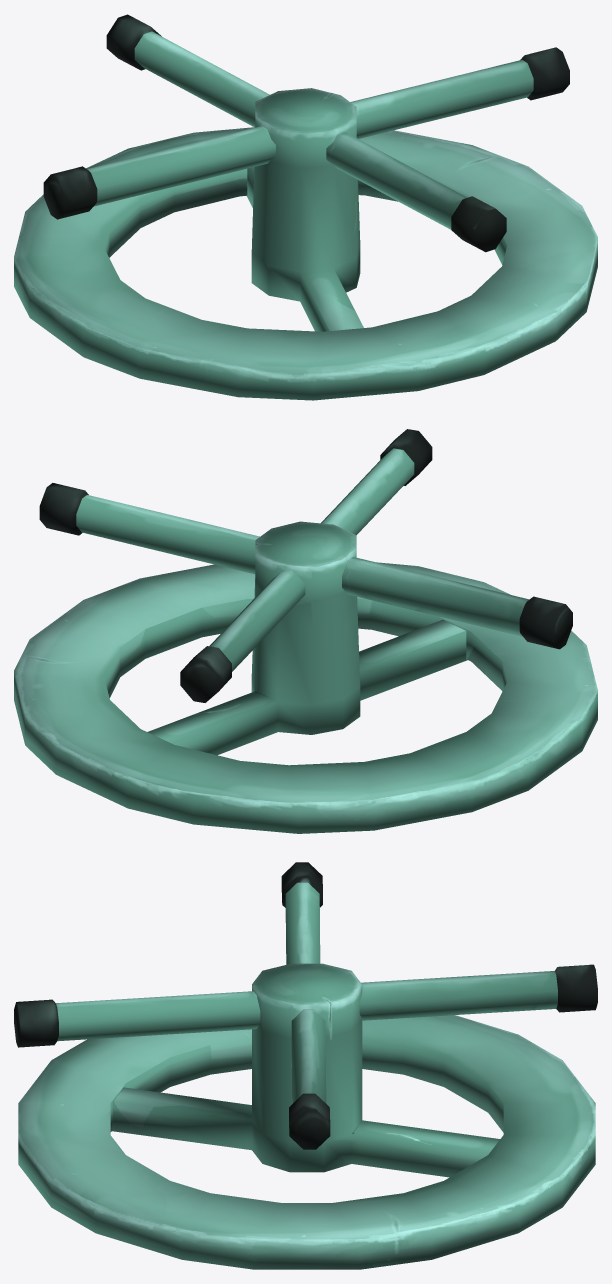
Rendered from sprinkler.fbx.
3 renders of one model, top to bottom at view 1: azimuth 30°, elevation 25°; view 2: azimuth 150°, elevation 25°; view 3: azimuth 270°, elevation 25°, orthographic.
Visible parts, largest first — view 1: Cylinder.001; view 2: Cylinder.001; view 3: Cylinder.001.
Boxes of the visible parts, box(x1,y1,x2,y2) form: Cylinder.001: box(14, 14, 597, 400); Cylinder.001: box(14, 429, 597, 833); Cylinder.001: box(14, 862, 597, 1269).
Size of the model in its own units: 31.97 by 10 by 31.91.
